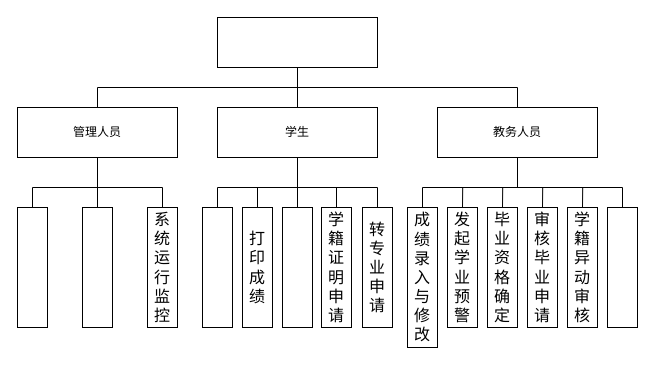
Some shapes in this 655 by 365 pixel diagram are drawn without their labels. The centre of each missing label's shape, as x and y in pixels:
学生学籍管理系统: the point at 297,42
学籍信息注册: the point at 622,267
学籍异动申请: the point at 297,267
查询信息: the point at 217,267
用户管理: the point at 97,267
系统维护: the point at 32,267
